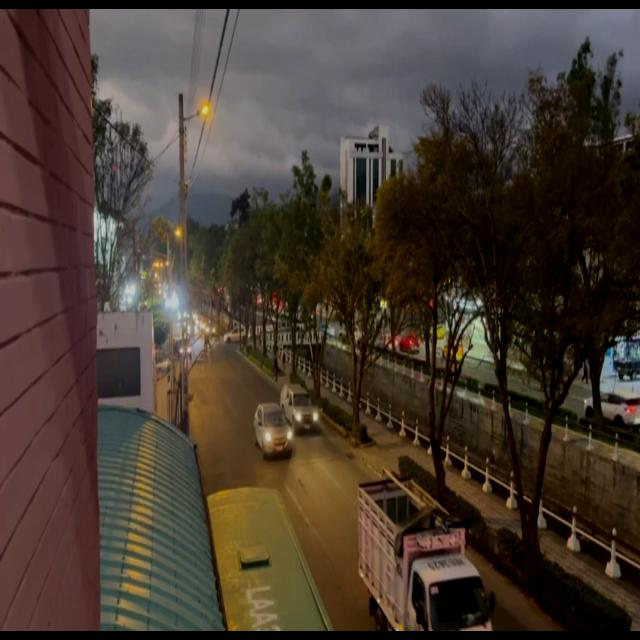CMT: (282, 385, 316, 433)
SUV: (257, 404, 289, 458)
TRUCK: (357, 474, 490, 631)
